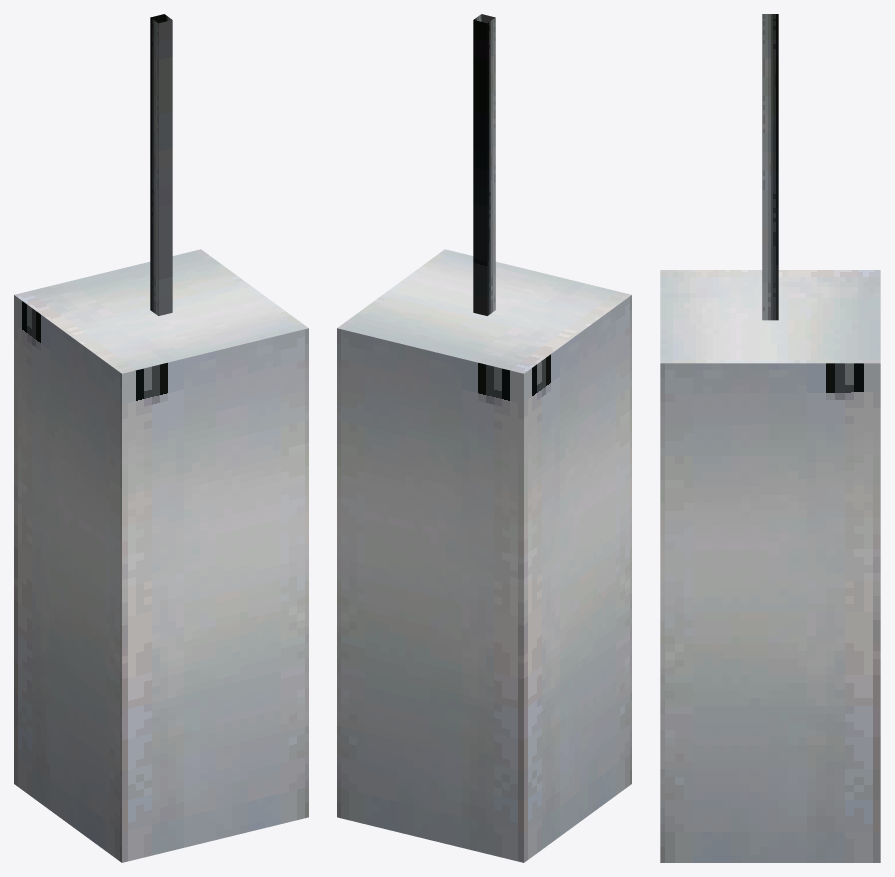
File: it_hang_light.fbx
3 renders of one model, left to right at view 1: azimuth 30°, elevation 25°; view 2: azimuth 150°, elevation 25°; view 3: azimuth 270°, elevation 25°, orthographic. The views are drawn at different scales.
Parts seen in each view (by area): view 1: mesh_0; view 2: mesh_0; view 3: mesh_0.
Boxes of the visible parts, <box> form: mesh_0: <box>14,14,308,862</box>; mesh_0: <box>337,14,631,862</box>; mesh_0: <box>660,14,880,862</box>.
Bounding box in the file's own units: 20 × 79.94 × 20.
1 material, 1 textured.
